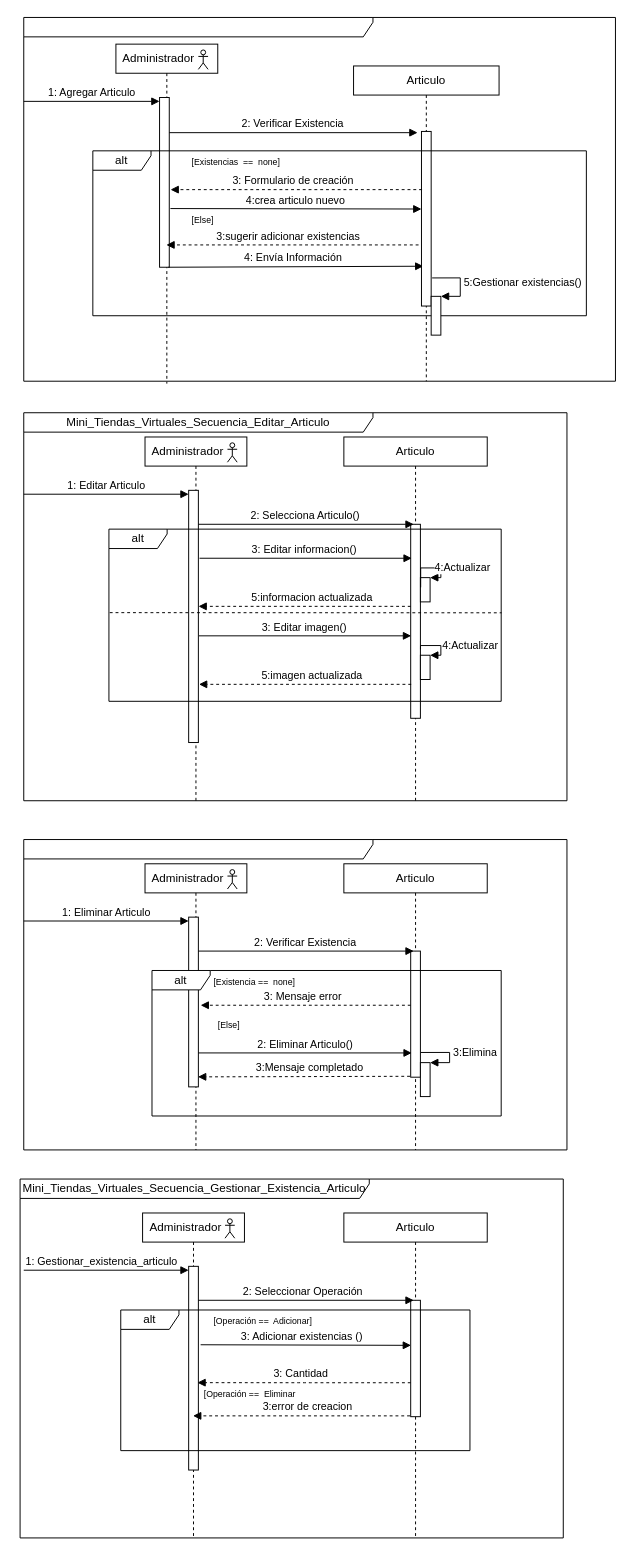
Image size: 632x1555. Some labels were removed from this diagram. The box of each missing label's shape, as (x1, y1, x2, y2) in pixels:
Mini_Tiendas_Virtuales_Secuencia_Agregar_Articulo: (23, 16, 615, 381)
Mini_Tiendas_Virtuales_Secuencia_Eliminar_Articulo: (23, 839, 567, 1150)
